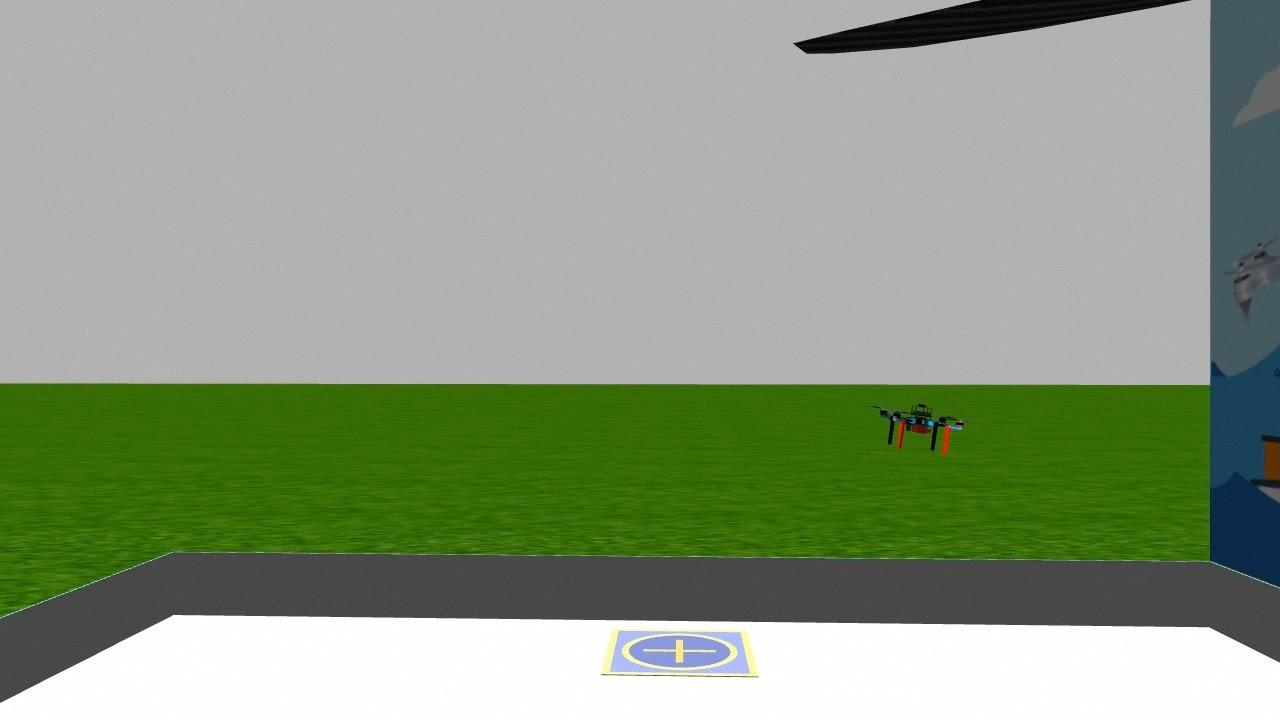UAV: (876, 396, 966, 456)
